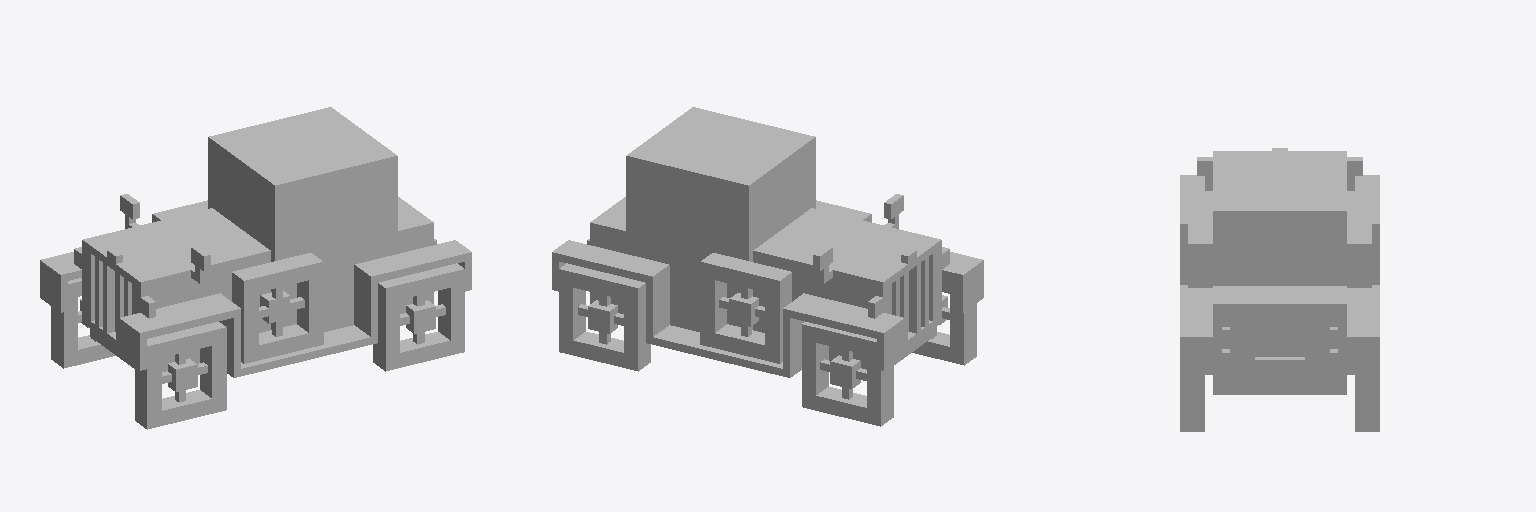
The model's file is alll cars3-25.obj.
The picture shows the model from 3 angles: view 1: azimuth 30°, elevation 25°; view 2: azimuth 150°, elevation 25°; view 3: azimuth 270°, elevation 25°; orthographic projection.
Parts seen in each view (by area): view 1: object 1; view 2: object 1; view 3: object 1.
Part boxes in pixels (x1,y1,x2,y2): object 1: (40, 107, 471, 429); object 1: (552, 107, 983, 426); object 1: (1180, 148, 1379, 431).
Size of the model in its own units: 9.2 by 5.2 by 4.8.